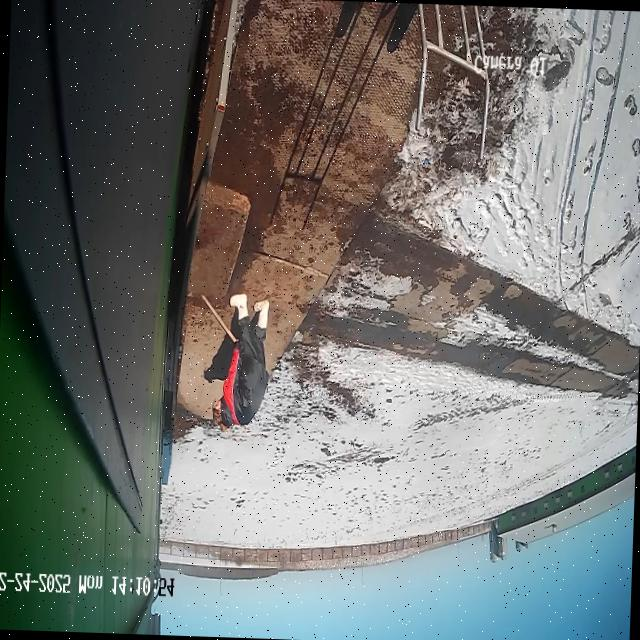Red uniform: (204, 289, 273, 432)
